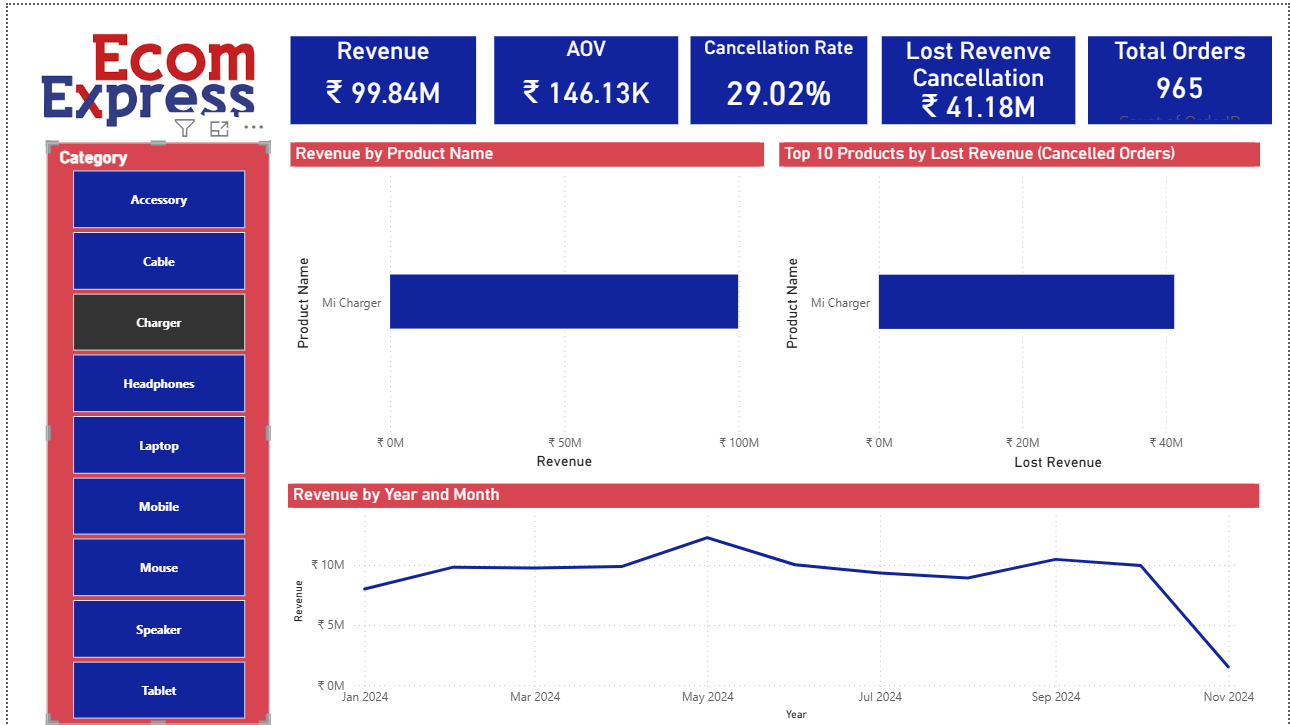

Layout of this report page (visuals, bound fields, positions):
{"tool":"powerbi","page":{"name":"Page 1","canvas":[1280,720],"ordinal":0},"visuals":[{"type":"image","box":[0,13.7,279.9,123.5],"z":0},{"type":"barChart","fields":{"Y":["table.Revenue"],"Category":["Product.Product Name"]},"box":[282.7,137.2,473.4,332.1],"z":1000},{"type":"barChart","title":"Top 10 Products by Lost Revenue (Cancelled Orders)","fields":{"Category":["Product.Product Name"],"Y":["table.lost_rev_cancellation"]},"box":[770.8,137.3,480.4,332.6],"z":2000},{"type":"lineChart","fields":{"Y":["table.Revenue"],"Category":["Orders.Date and time of purchase.Variation.Date Hierarchy.Year","Orders.Date and time of purchase.Variation.Date Hierarchy.Month"]},"box":[279.9,478.9,971.5,241.5],"z":3000},{"type":"card","title":"Revenue","fields":{"Values":["table.Revenue"]},"box":[282.7,31.6,185.2,87.8],"z":4000},{"type":"card","title":"Total Orders","fields":{"Values":["CountNonNull(Orders.OrderID)"]},"box":[1079.9,31.6,183.9,87.8],"z":5000},{"type":"card","title":"AOV","fields":{"Values":["table.AOV"]},"box":[485.8,31.6,183.9,87.8],"z":6000},{"type":"card","title":"Cancellation Rate","fields":{"Values":["table.Cancellation Rate"]},"box":[682,31.6,177,87.8],"z":7000},{"type":"card","title":"Lost Revenve Cancellation","fields":{"Values":["table.lost_rev_cancellation"]},"box":[874.1,31.6,193.5,87.8],"z":8000},{"type":"slicer","fields":{"Values":["Product.Category"]},"box":[38.4,137.2,222.3,583.2],"z":9000}]}

Visuals, with their boxes in screenshot pixels (x1, y1, x2, y2), scaled from the page's 1280x720 canvas onto the 1290x725 screenshot:
image: box=[0, 14, 282, 138]
barChart - table.Revenue x Product.Product Name: box=[285, 138, 762, 473]
"Top 10 Products by Lost Revenue (Cancelled Orders)" barChart: box=[777, 138, 1261, 473]
lineChart - table.Revenue x Orders.Date and time of purchase.Variation.Date Hierarchy.Year: box=[282, 482, 1261, 724]
"Revenue" card: box=[285, 32, 472, 120]
"Total Orders" card: box=[1088, 32, 1274, 120]
"AOV" card: box=[490, 32, 675, 120]
"Cancellation Rate" card: box=[687, 32, 866, 120]
"Lost Revenve Cancellation" card: box=[881, 32, 1076, 120]
slicer - Product.Category: box=[39, 138, 263, 724]
